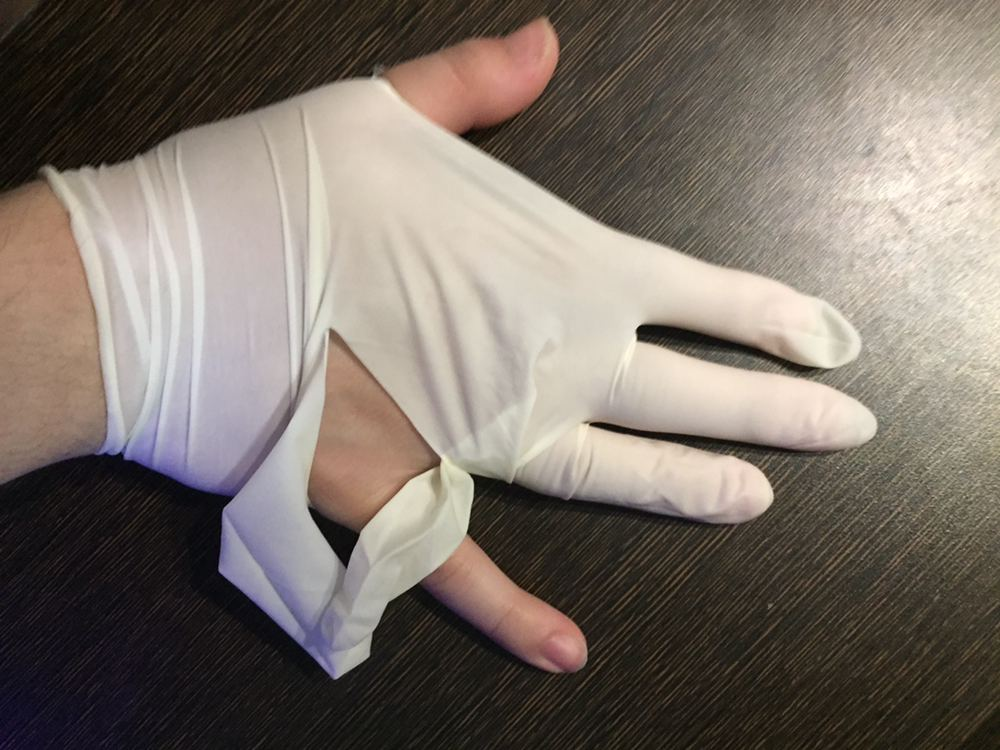defected: (84, 14, 900, 703)
